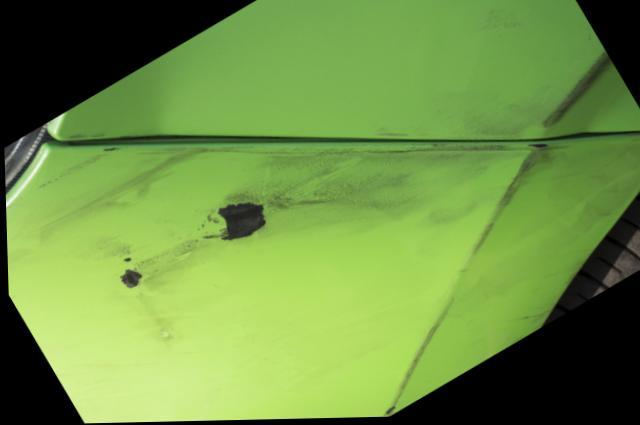scratch: (5, 138, 566, 419), (432, 42, 613, 135)
